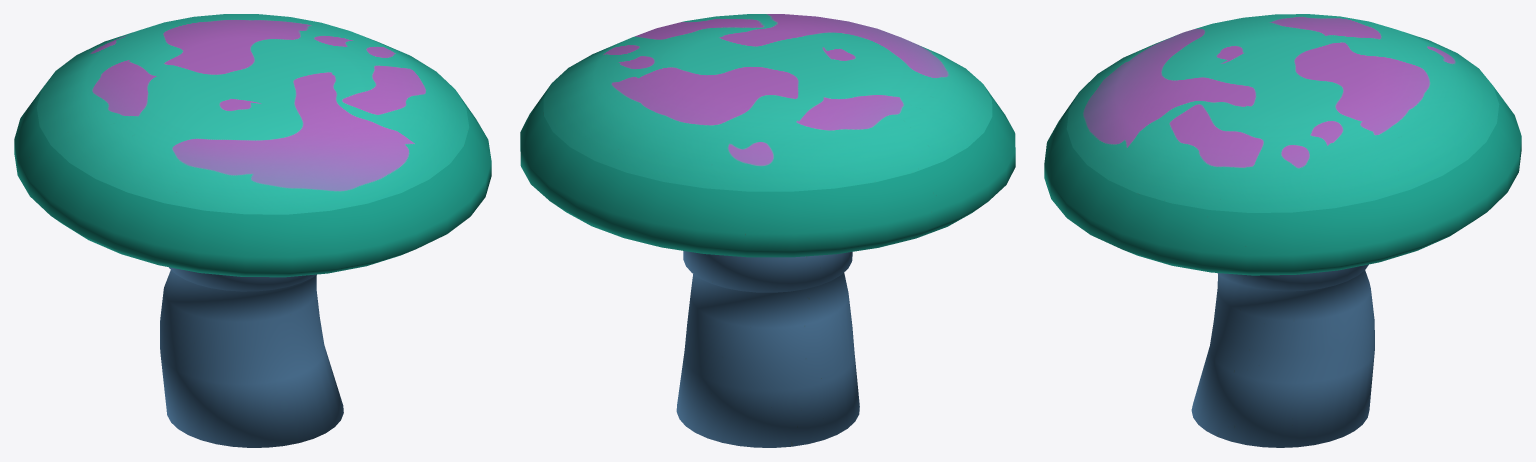
The model's file is Mushroom 1.fbx.
The picture shows the model from 3 angles, left to right: view 1: azimuth 30°, elevation 25°; view 2: azimuth 150°, elevation 25°; view 3: azimuth 270°, elevation 25°; orthographic projection. The views are drawn at different scales.
Visible parts, largest first — view 1: Mushroom; view 2: Mushroom; view 3: Mushroom.
Part boxes in pixels (left/top/right/bottom): Mushroom: left=14, top=14, right=491, bottom=447; Mushroom: left=520, top=14, right=1015, bottom=447; Mushroom: left=1044, top=14, right=1521, bottom=447.
Bounding box in the file's own units: 35.58 × 27.83 × 35.33.
